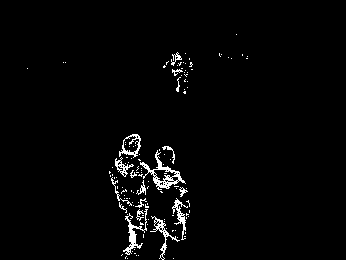person: (144, 144, 191, 257), (108, 133, 150, 256), (164, 50, 196, 97)
